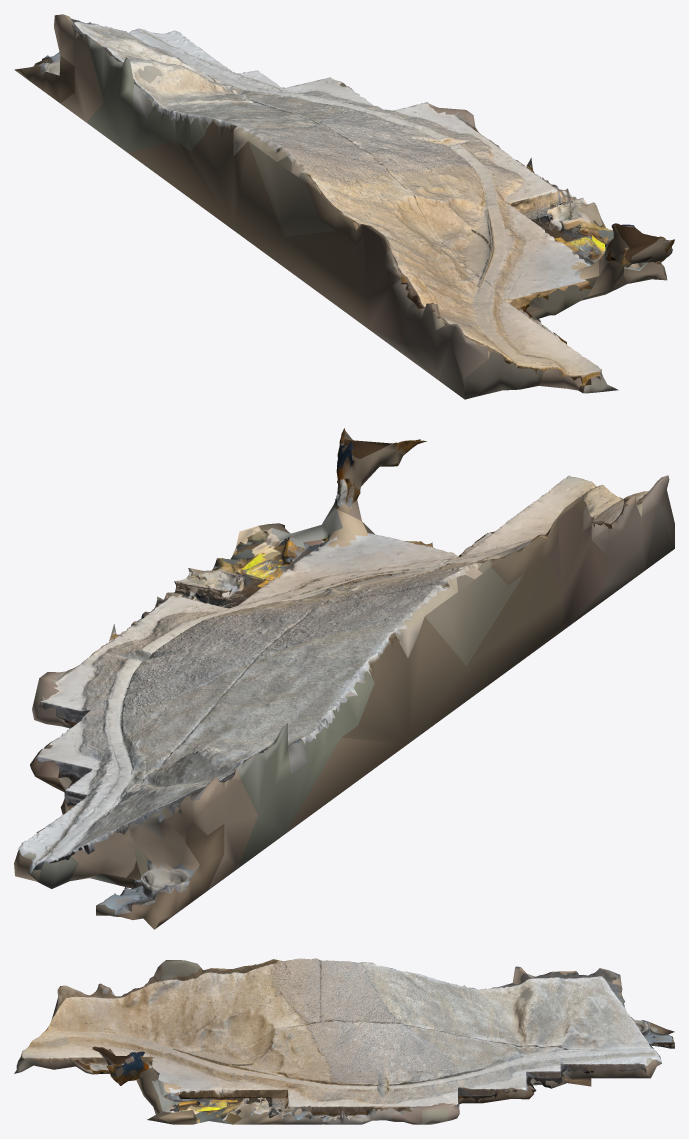
File: nederste-del-test.glb
The picture shows the model from 3 angles, top to bottom: view 1: azimuth 30°, elevation 25°; view 2: azimuth 150°, elevation 25°; view 3: azimuth 270°, elevation 25°; orthographic projection. The views are drawn at different scales.
Visible parts, largest first — view 1: Node; view 2: Node; view 3: Node.
Boxes of the visible parts, x1,y1,x2,y2 form: Node: (14,14,674,399); Node: (14,428,674,929); Node: (14,958,674,1124).
Bounding box in the file's own units: 1.29 × 0.4872 × 3.83.
1 material, 1 textured.
